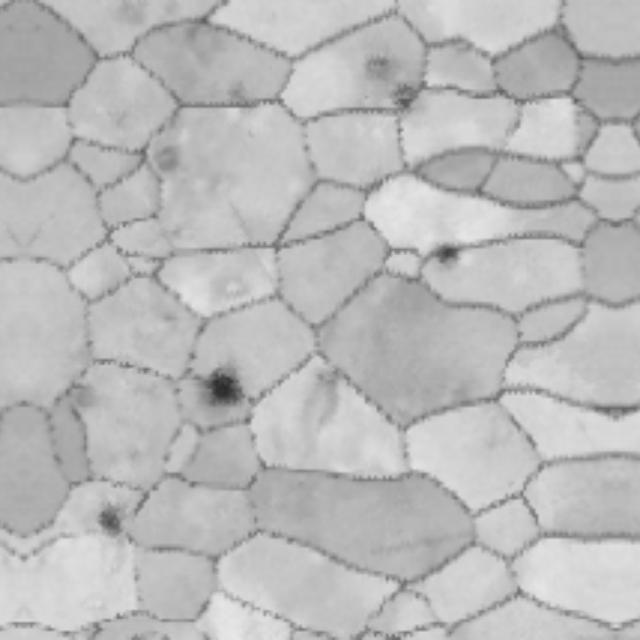good_void: (295, 368, 347, 438), (196, 358, 250, 413), (47, 380, 104, 421), (90, 500, 134, 546), (384, 80, 426, 118), (149, 138, 185, 180), (364, 51, 402, 88), (429, 238, 464, 270)
